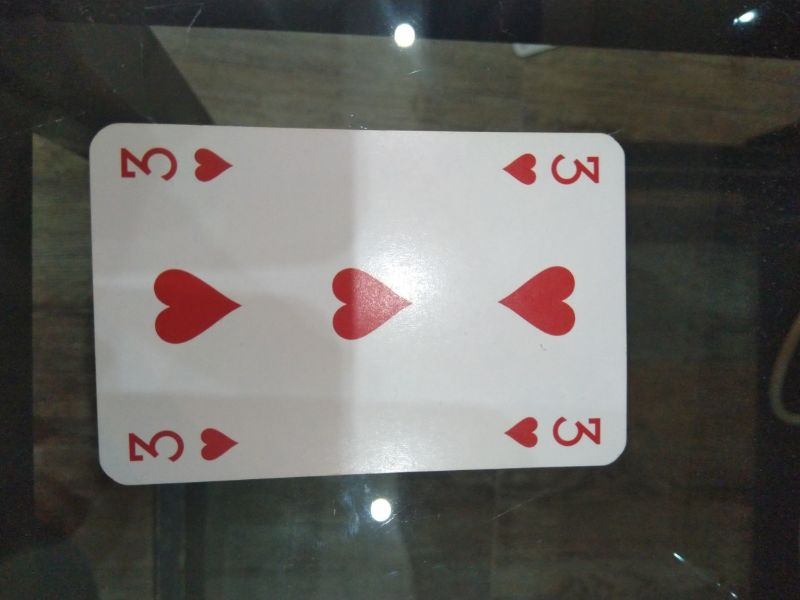3h: (114, 139, 241, 189), (123, 422, 245, 467), (499, 150, 606, 191), (499, 413, 607, 452)
